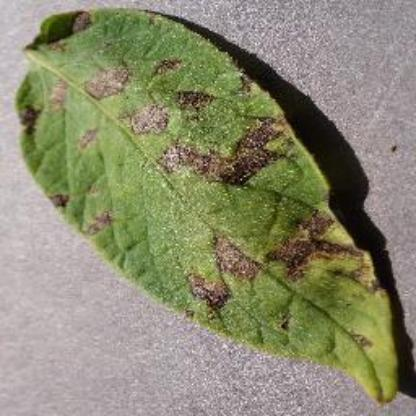Early-Blight: (13, 9, 406, 405)
